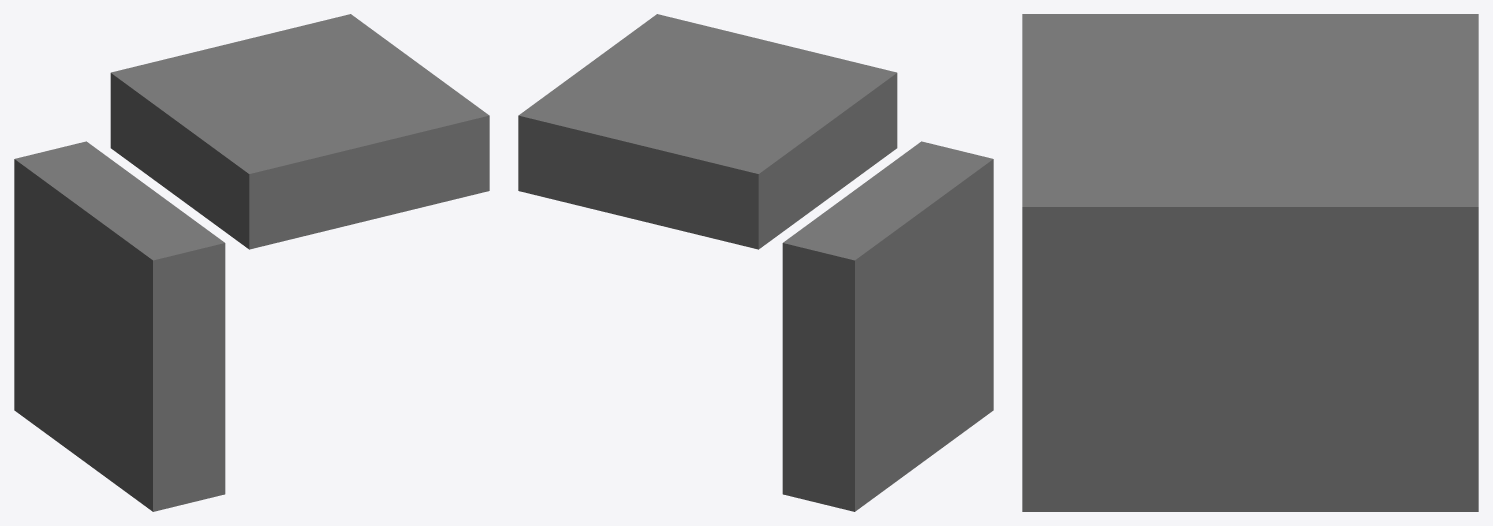
File: У5.2_Кромки.glb
3 views of the same model, side by side, from view 1: azimuth 30°, elevation 25°; view 2: azimuth 150°, elevation 25°; view 3: azimuth 270°, elevation 25° (orthographic). The views are drawn at different scales.
Parts seen in each view (by area): view 1: node_id3; view 2: node_id3; view 3: node_id3.
Boxes of the visible parts, left/top/right/bottom form: node_id3: left=14, top=14, right=489, bottom=511; node_id3: left=518, top=14, right=993, bottom=511; node_id3: left=1022, top=14, right=1478, bottom=511.
Size of the model in its own units: 0.512 by 0.4571 by 0.3657.
Materials: 1 (1 with a texture image).
